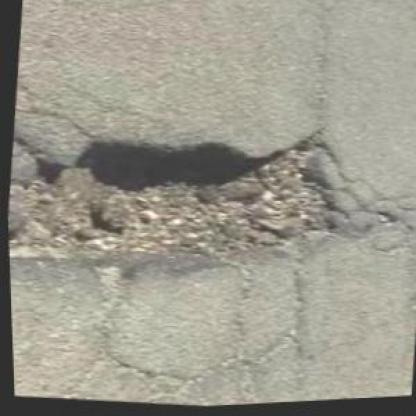pothole: (3, 94, 366, 300)
